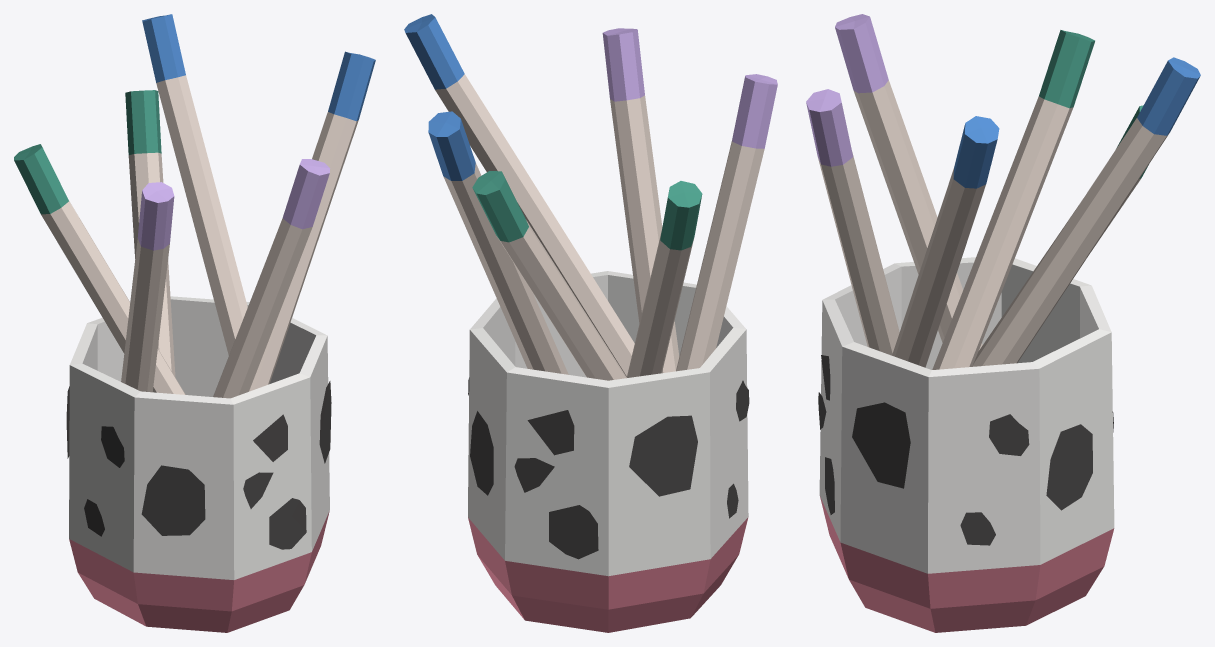
The model's file is Cup_with_pens_1.fbx.
3 views of the same model, side by side, from view 1: azimuth 30°, elevation 25°; view 2: azimuth 150°, elevation 25°; view 3: azimuth 270°, elevation 25° (orthographic). The views are drawn at different scales.
Visible parts, largest first — view 1: Cup_with_pens_1; view 2: Cup_with_pens_1; view 3: Cup_with_pens_1.
Part boxes in pixels (left/top/right/bottom): Cup_with_pens_1: left=14, top=14, right=375, bottom=632; Cup_with_pens_1: left=404, top=14, right=777, bottom=632; Cup_with_pens_1: left=806, top=14, right=1200, bottom=632.
Size of the model in its own units: 21.48 by 20.75 by 32.08.
